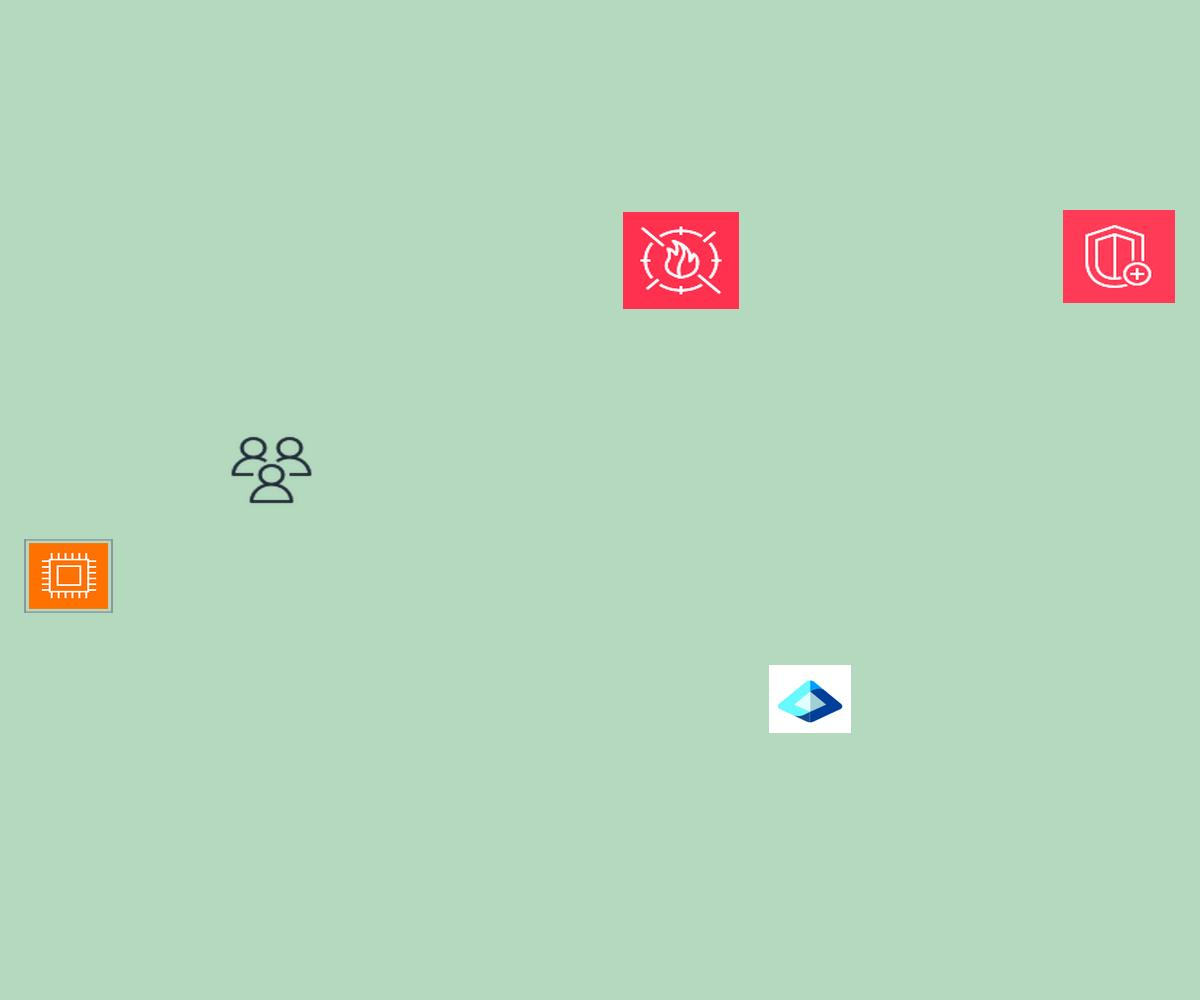AWS-Category_Compute: (24, 539, 113, 613)
AWS-Res_Users: (228, 434, 315, 506)
AWS-Shield: (1063, 210, 1175, 303)
AWS-WAF: (623, 212, 739, 309)
Azure_microsoft_entra: (769, 665, 851, 733)
